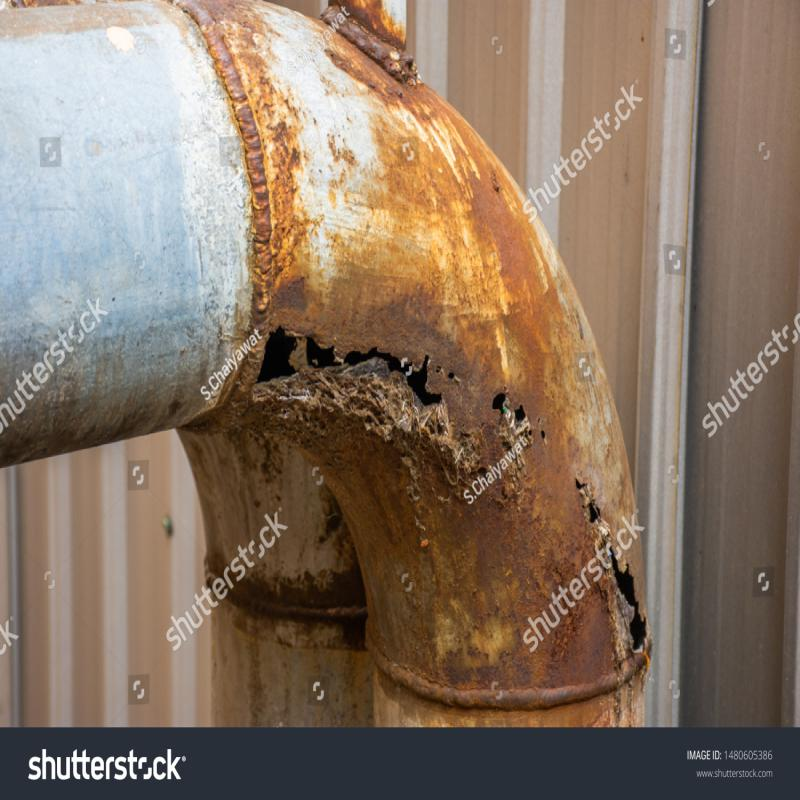Fracture: (255, 300, 667, 672)
corrosion: (172, 11, 685, 727)
